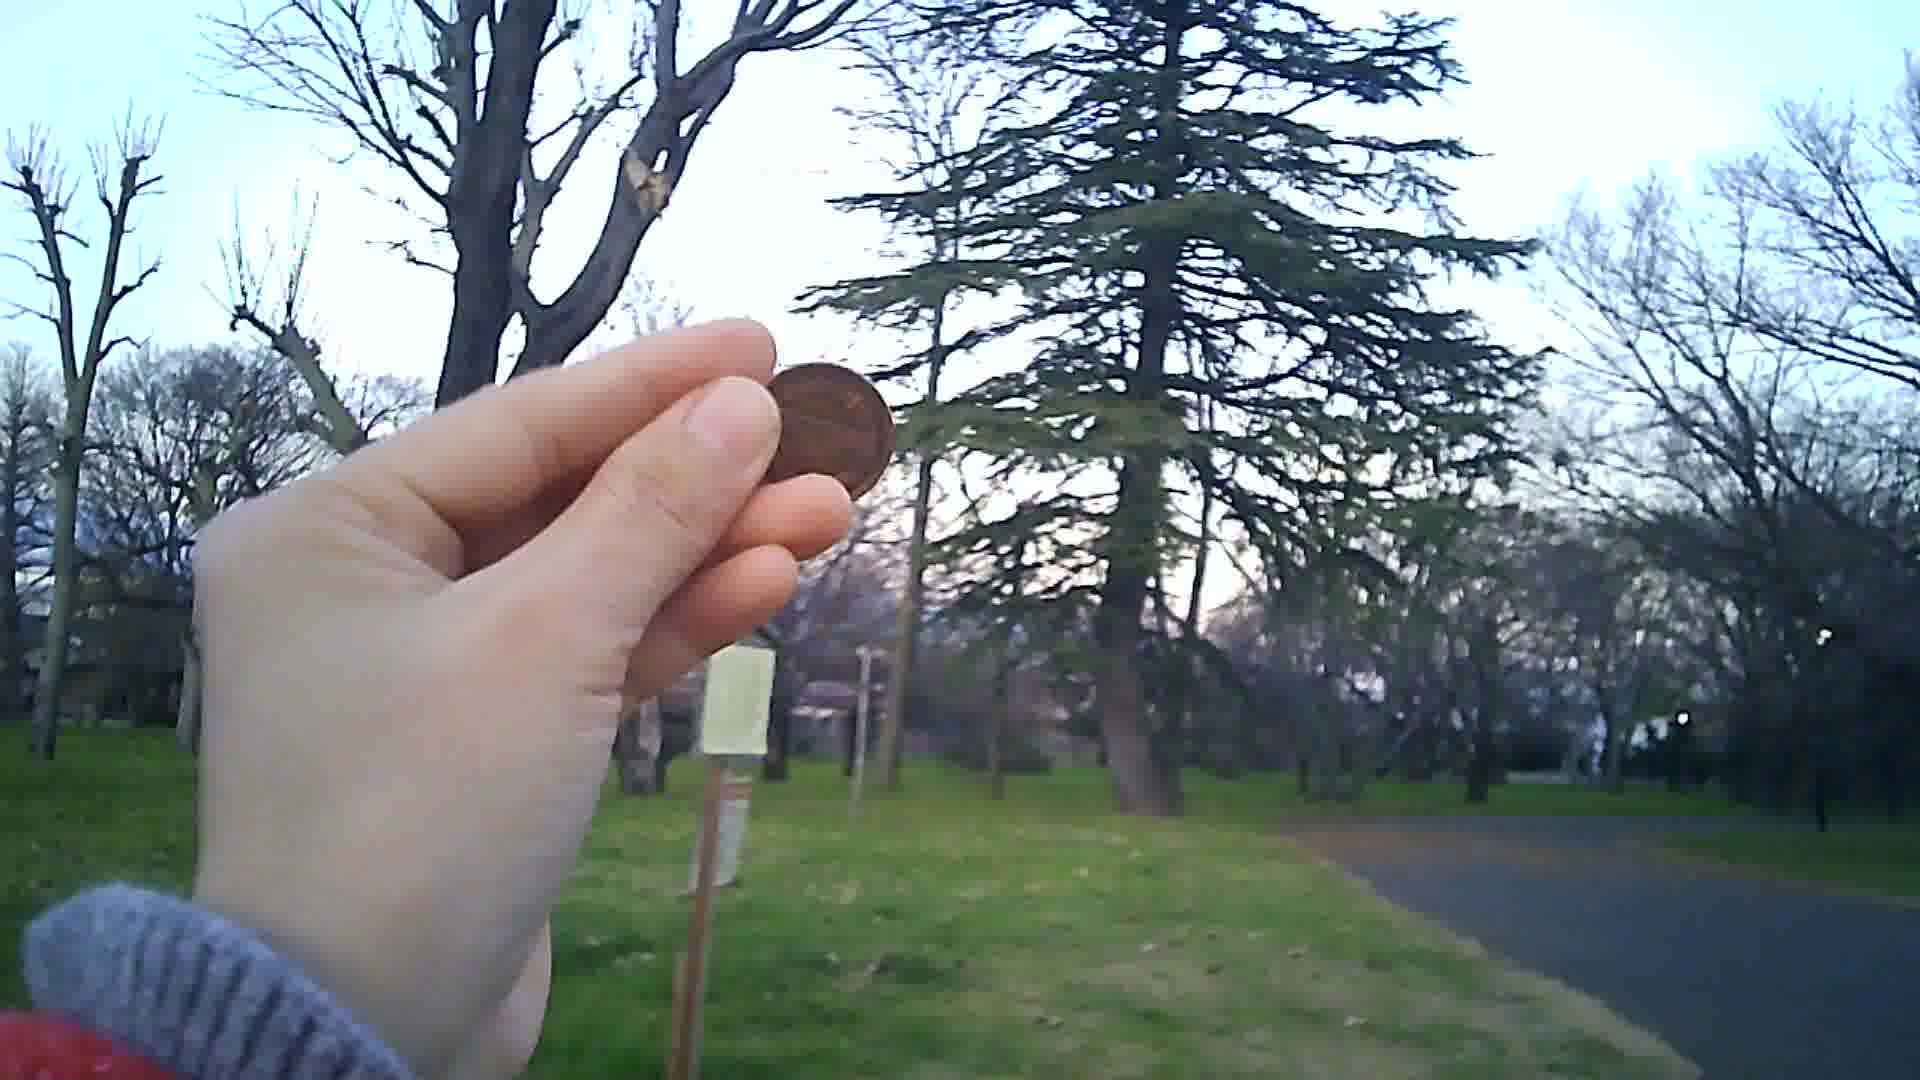10 Yen: (745, 353, 903, 513)
